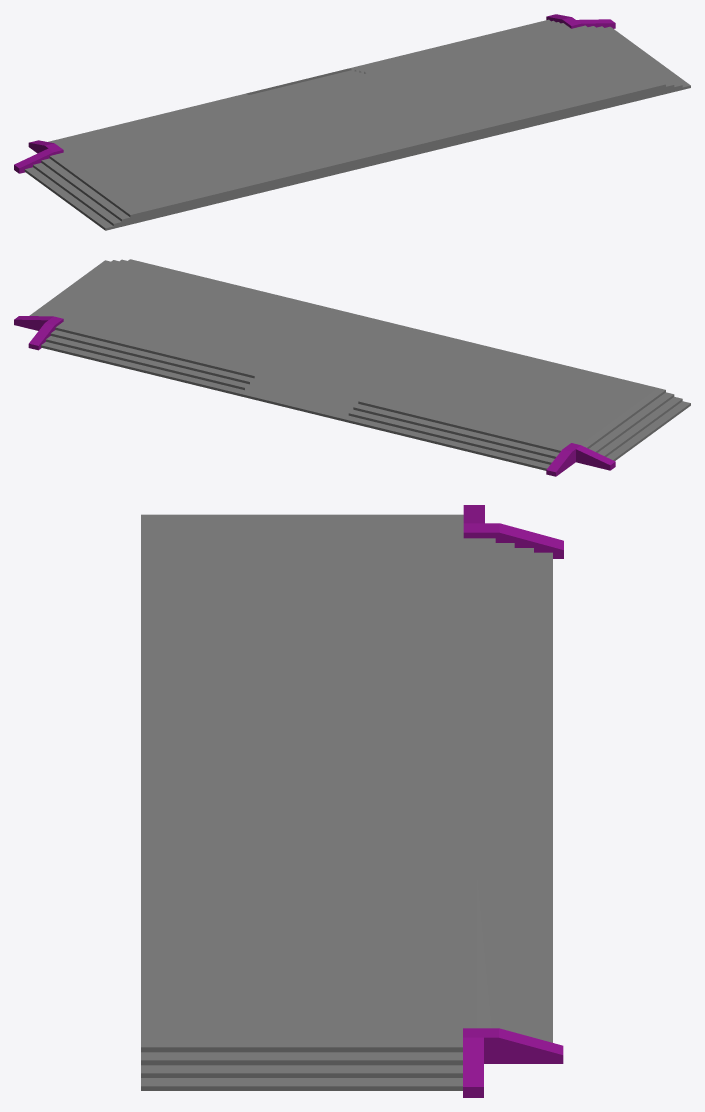
3 views of the same model, one above another, from view 1: azimuth 30°, elevation 25°; view 2: azimuth 150°, elevation 25°; view 3: azimuth 270°, elevation 25° (orthographic). The views are drawn at different scales.
Parts seen in each view (by area): view 1: Box003; view 2: Box003; view 3: Box003.
Boxes of the visible parts, x1,y1,x2,y2 form: Box003: (14,14,690,230); Box003: (14,259,690,476); Box003: (141,505,563,1097).
Bounding box in the file's own units: 2466 × 52.18 × 758.
